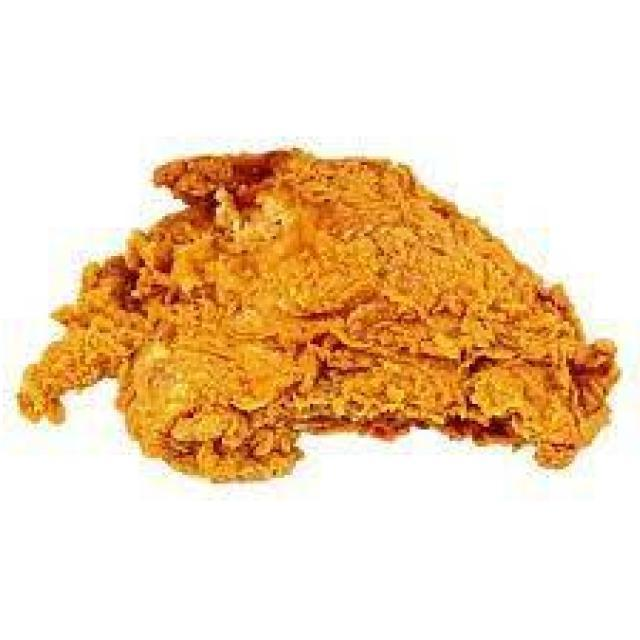Chicken -Fried Chicken-: (17, 150, 621, 485)
